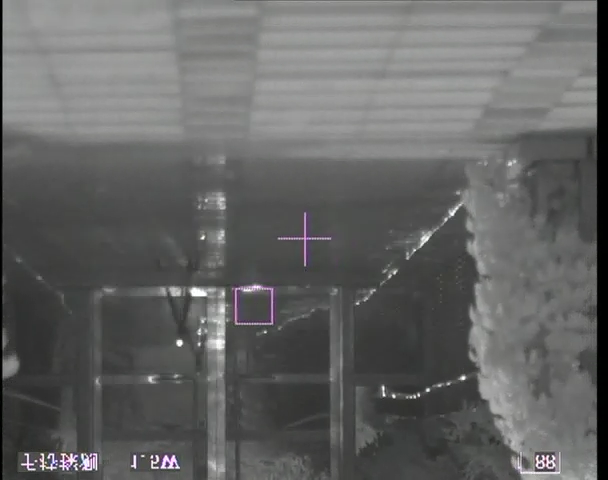my: (174, 338, 185, 348)
